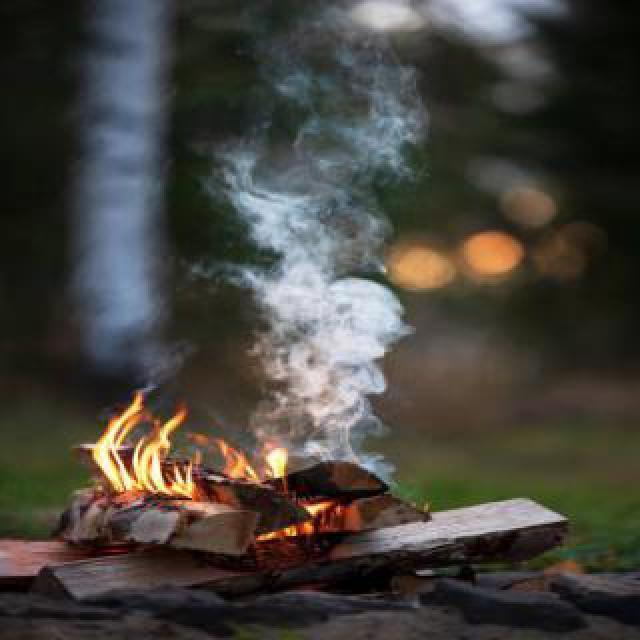Fire: (72, 388, 252, 512)
Smoke: (182, 6, 446, 470)
